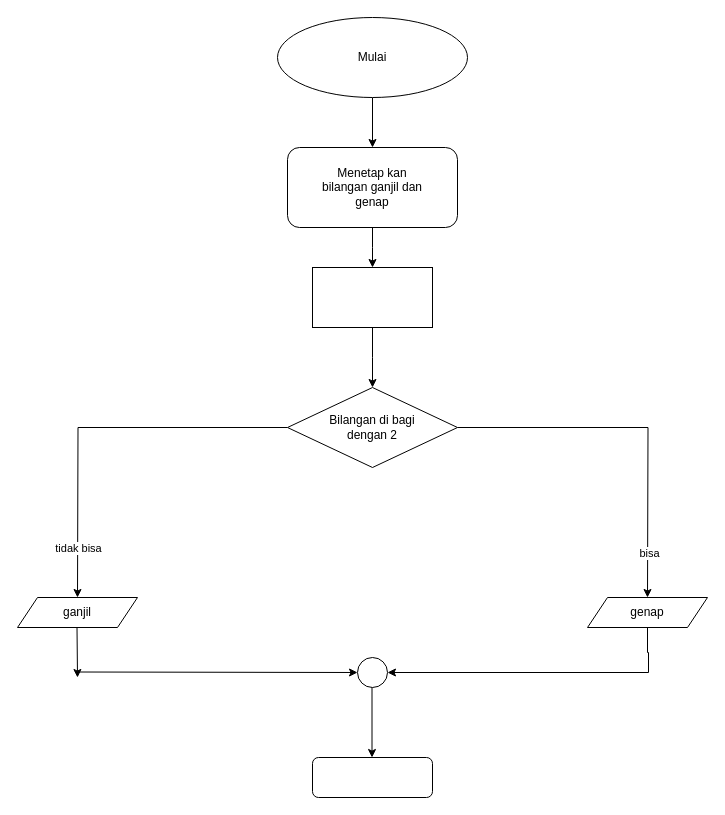
Image size: 725x815. Some labels were removed from this diagram. The shapes that lost their labels are listed below. From the top down, each one's centre as x and y in pixels, then its label:
At point (372, 297): "Di bagi 2".
At point (372, 777): "Finish".
